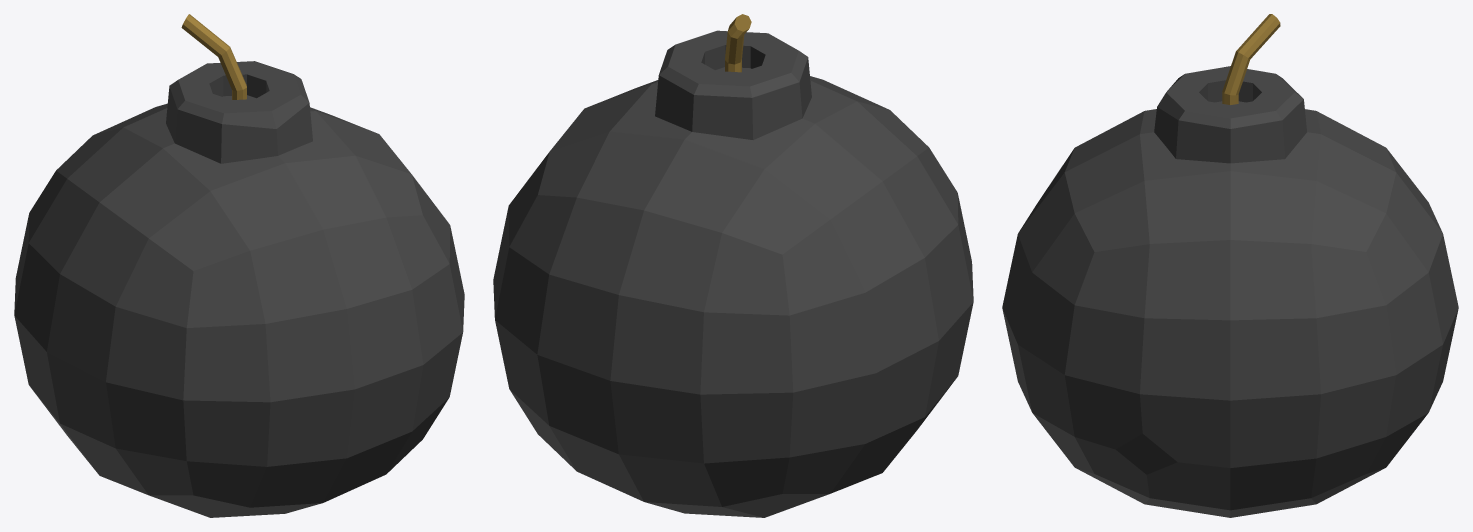
The model's file is Bomb.fbx.
3 renders of one model, left to right at view 1: azimuth 30°, elevation 25°; view 2: azimuth 150°, elevation 25°; view 3: azimuth 270°, elevation 25°, orthographic. The views are drawn at different scales.
Visible parts, largest first — view 1: Cube, Circle.001, Plane.001; view 2: Cube, Circle.001, Plane.001; view 3: Cube, Circle.001, Plane.001.
Boxes of the visible parts, bbox=[...] form: Cube: bbox=[14, 103, 464, 517]; Circle.001: bbox=[166, 61, 312, 163]; Plane.001: bbox=[181, 14, 246, 99]; Cube: bbox=[493, 76, 973, 517]; Circle.001: bbox=[655, 30, 811, 139]; Plane.001: bbox=[725, 14, 751, 72]; Cube: bbox=[1002, 109, 1458, 517]; Circle.001: bbox=[1154, 66, 1306, 163]; Plane.001: bbox=[1222, 14, 1280, 104].
Bounding box in the file's own units: 0.4661 × 0.4836 × 0.5439.
